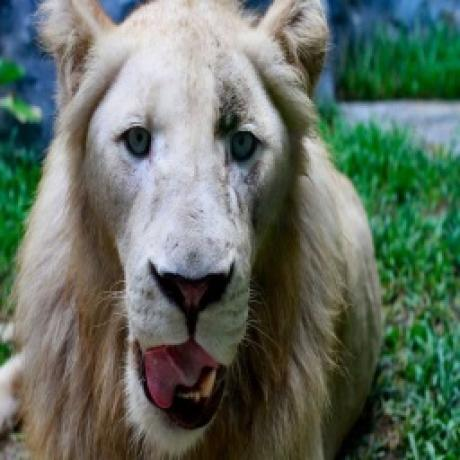Lion: (0, 0, 390, 460)
